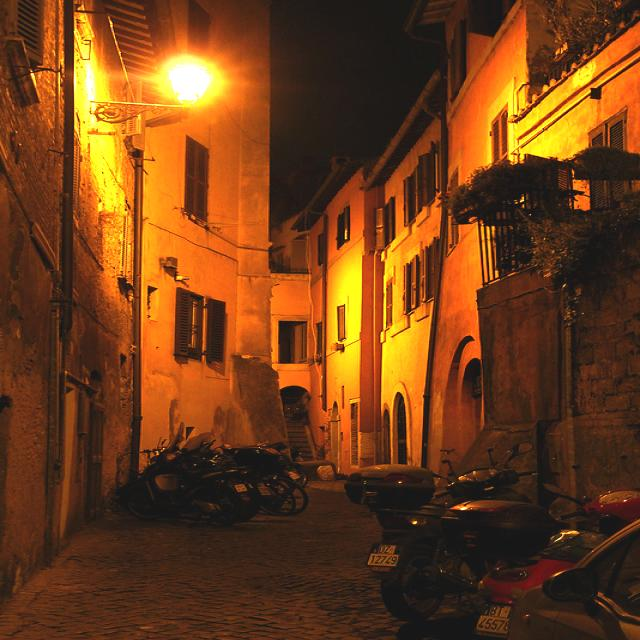Motorbike: (373, 447, 640, 640), (128, 432, 310, 523)
